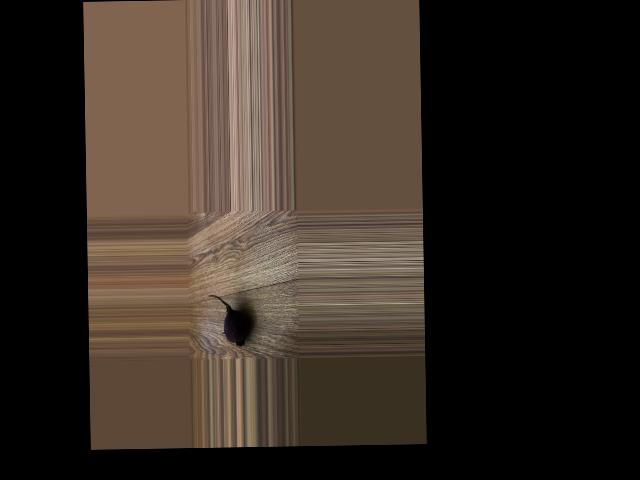beet: (208, 293, 248, 345)
